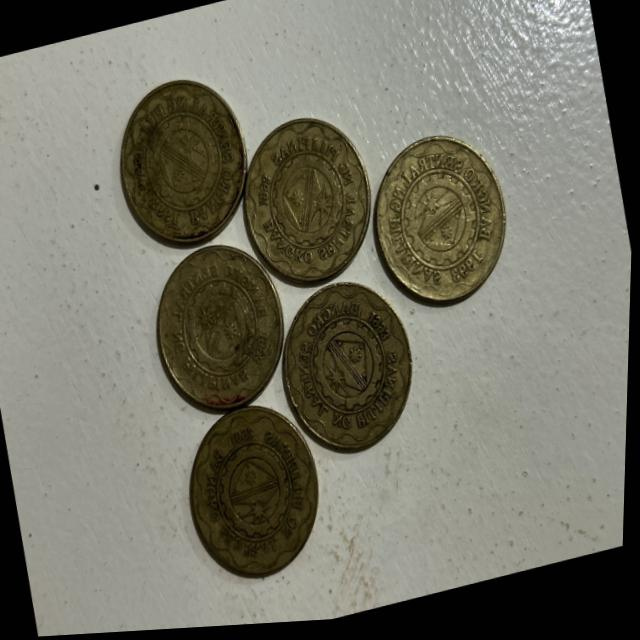5_Old_Back: (355, 120, 528, 331), (170, 387, 338, 594), (275, 274, 431, 475), (231, 106, 382, 296), (107, 68, 256, 259), (140, 235, 291, 422)
